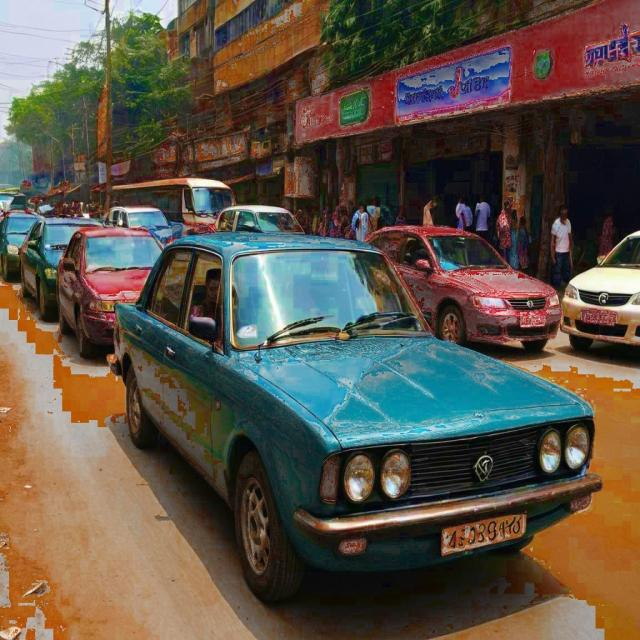blue: (117, 229, 589, 596)
green: (17, 216, 107, 324)
maroon: (354, 219, 562, 365), (56, 224, 167, 354)
white: (562, 229, 640, 364)
